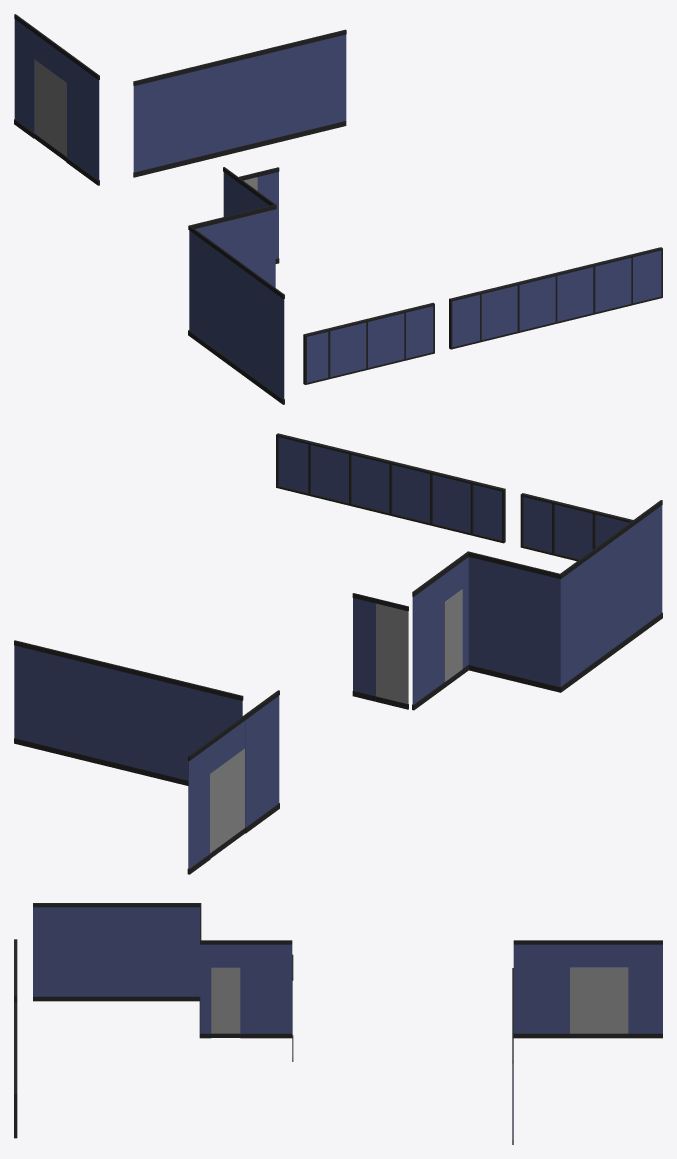
The model's file is int_glass.FBX.
The picture shows the model from 3 angles, top to bottom: view 1: azimuth 30°, elevation 25°; view 2: azimuth 150°, elevation 25°; view 3: azimuth 270°, elevation 25°; orthographic projection. The views are drawn at different scales.
Visible parts, largest first — view 1: int_glass00, int_glass01, int_glass03, int_glass05, int_glass06, int_glass07; view 2: int_glass03, int_glass00, int_glass01, int_glass05, int_glass08, int_glass06, int_glass07, int_glass04; view 3: int_glass03, int_glass05, int_glass06, int_glass04, int_glass01.
Part boxes in pixels (bbox=[...]): int_glass00: bbox=[133, 29, 346, 177]; int_glass01: bbox=[303, 247, 662, 384]; int_glass03: bbox=[188, 167, 284, 404]; int_glass05: bbox=[14, 14, 99, 185]; int_glass06: bbox=[34, 60, 66, 161]; int_glass07: bbox=[257, 167, 279, 263]; int_glass03: bbox=[412, 500, 662, 710]; int_glass00: bbox=[14, 640, 243, 785]; int_glass01: bbox=[276, 433, 632, 561]; int_glass05: bbox=[187, 690, 279, 874]; int_glass08: bbox=[376, 598, 408, 709]; int_glass06: bbox=[210, 748, 245, 858]; int_glass07: bbox=[352, 593, 376, 701]; int_glass04: bbox=[444, 589, 462, 686]; int_glass03: bbox=[33, 903, 292, 1038]; int_glass05: bbox=[513, 940, 662, 1038]; int_glass06: bbox=[570, 967, 628, 1038]; int_glass04: bbox=[211, 967, 240, 1037]; int_glass01: bbox=[14, 939, 17, 1138].
Size of the model in its own units: 1189 by 338 by 2040.
